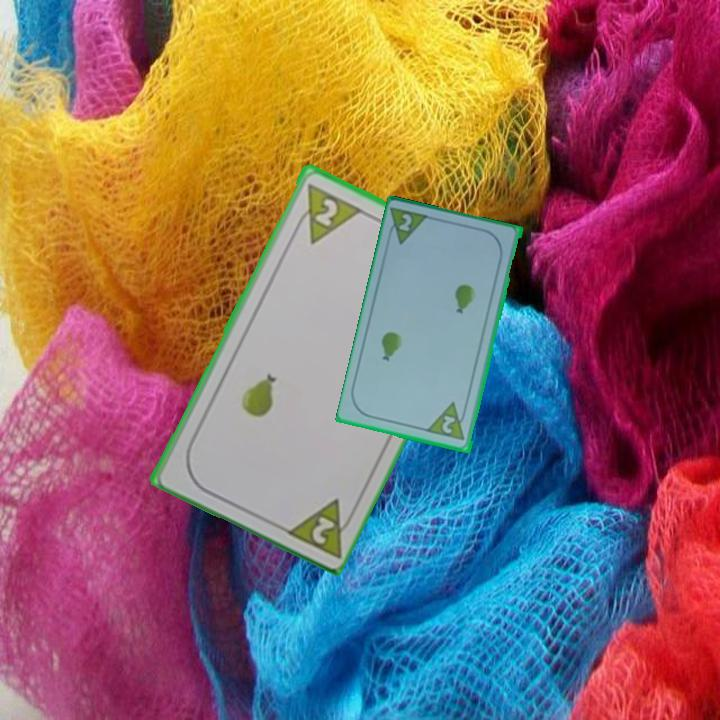2p: (280, 493, 358, 560), (289, 179, 364, 247), (384, 204, 433, 248), (439, 412, 459, 437)
